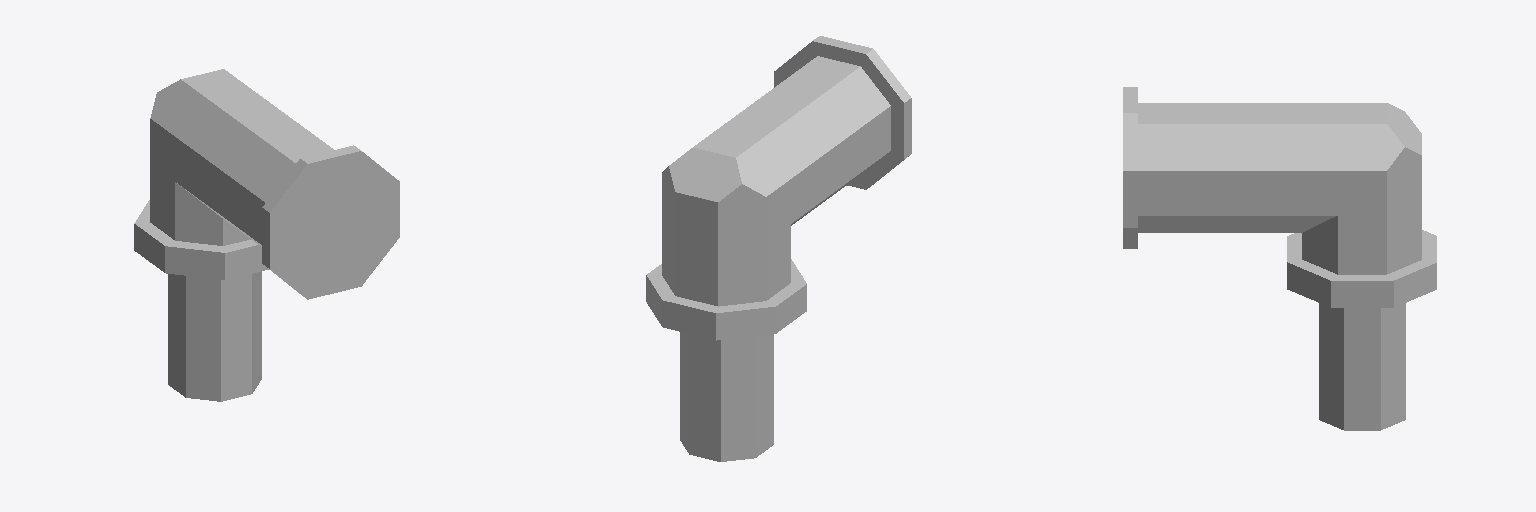
Rendered from pipeworks_spigot_pouring_lowpoly.obj.
3 renders of one model, left to right at view 1: azimuth 30°, elevation 25°; view 2: azimuth 150°, elevation 25°; view 3: azimuth 270°, elevation 25°, orthographic.
Visible parts, largest first — view 1: Cylinder.000_Cylinder.000_None_Cylinder.000_Cylinder.000_No.004; view 2: Cylinder.000_Cylinder.000_None_Cylinder.000_Cylinder.000_No.004; view 3: Cylinder.000_Cylinder.000_None_Cylinder.000_Cylinder.000_No.004.
Part boxes in pixels (x1,y1,x2,y2): Cylinder.000_Cylinder.000_None_Cylinder.000_Cylinder.000_No.004: (134, 69, 399, 401); Cylinder.000_Cylinder.000_None_Cylinder.000_Cylinder.000_No.004: (646, 36, 911, 461); Cylinder.000_Cylinder.000_None_Cylinder.000_Cylinder.000_No.004: (1123, 87, 1436, 430).
Size of the model in its own units: 0.3125 by 0.7188 by 0.6562.